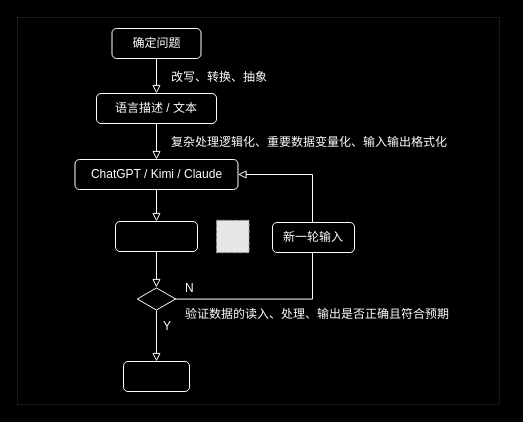
Image size: 523x422. Some labels were removed from this diagram. Grey dashed boxes stand in for pictures. Here are the shapes that lost their labels. From the top down, the centre of each, then its label:
At (x=156, y=236): "文本输出".
At (x=156, y=376): "结束".
